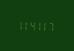four: (30, 19, 35, 30)
one: (36, 19, 41, 31), (17, 19, 22, 30), (23, 19, 28, 30), (42, 20, 47, 31)
seven: (48, 20, 53, 31)
